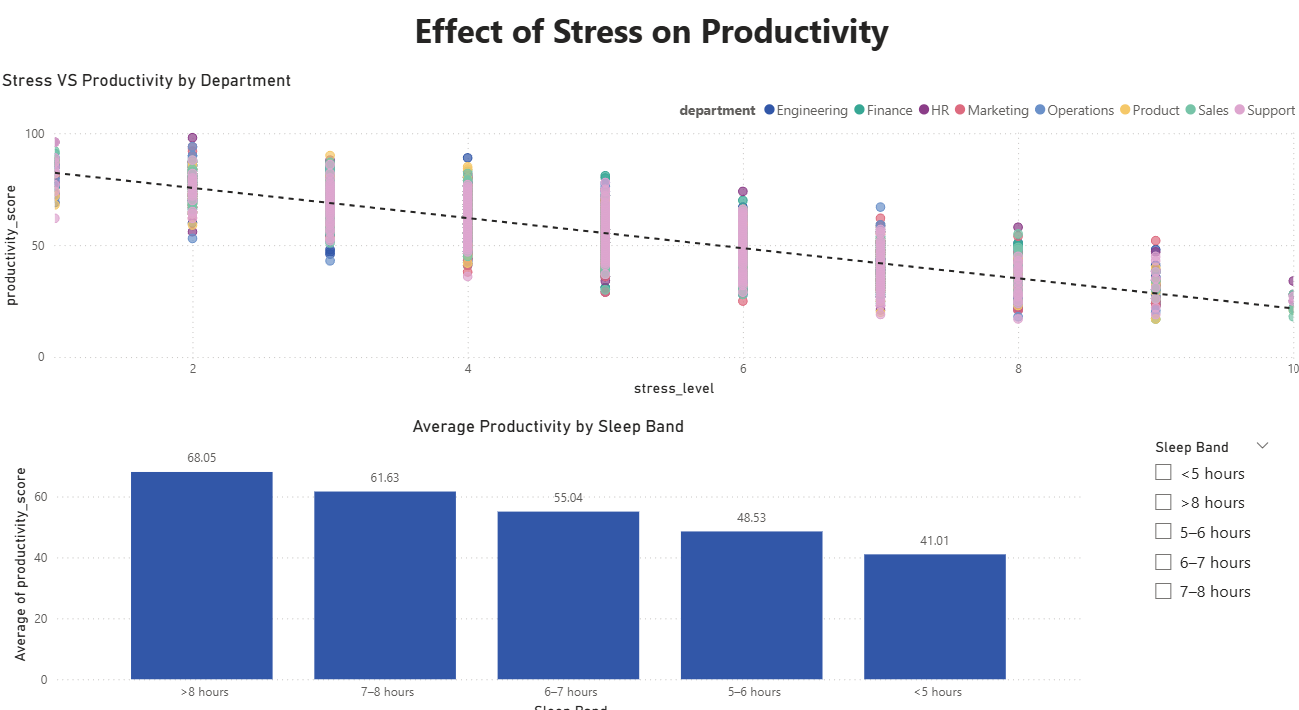

The dashboard page shown, as its layout file describes it:
{"tool":"powerbi","page":{"name":"Stress vs Productivity","canvas":[1280,720],"ordinal":2},"visuals":[{"type":"scatterChart","title":"Stress VS Productivity by Department","fields":{"X":["Employee Wellness.stress_level"],"Y":["Employee Wellness.productivity_score"],"Series":["Employee Wellness.department"]},"box":[0,79.5,1280.3,325.3],"z":0},{"type":"clusteredColumnChart","title":"Average Productivity by Sleep Band","fields":{"Category":["Employee Wellness.Sleep Band"],"Y":["Avg(Employee Wellness.productivity_score)"]},"box":[9.8,418.2,1059,302],"z":1000},{"type":"slicer","fields":{"Values":["Employee Wellness.Sleep Band"]},"box":[1120.1,435.3,137,185.9],"z":2000},{"type":"textbox","box":[0,14.7,1280.3,56.3],"z":3000}]}

Visuals, with their boxes in screenshot pixels (x1, y1, x2, y2), scaled from the page's 1280x720 canvas onto the 1299x710 screenshot:
"Stress VS Productivity by Department" scatterChart: select_region(0, 78, 1298, 399)
"Average Productivity by Sleep Band" clusteredColumnChart: select_region(10, 412, 1085, 709)
slicer - Employee Wellness.Sleep Band: select_region(1137, 429, 1276, 613)
textbox: select_region(0, 14, 1298, 70)
